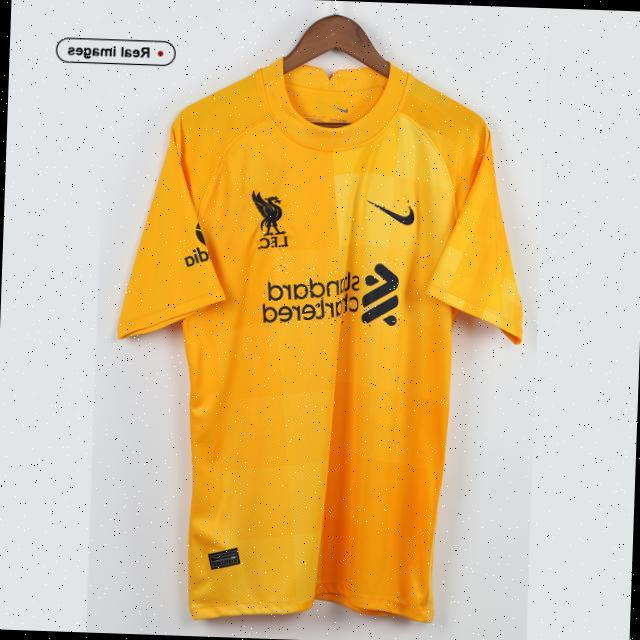Nike: (369, 199, 419, 227)
Standard Chartered: (262, 257, 401, 327)
